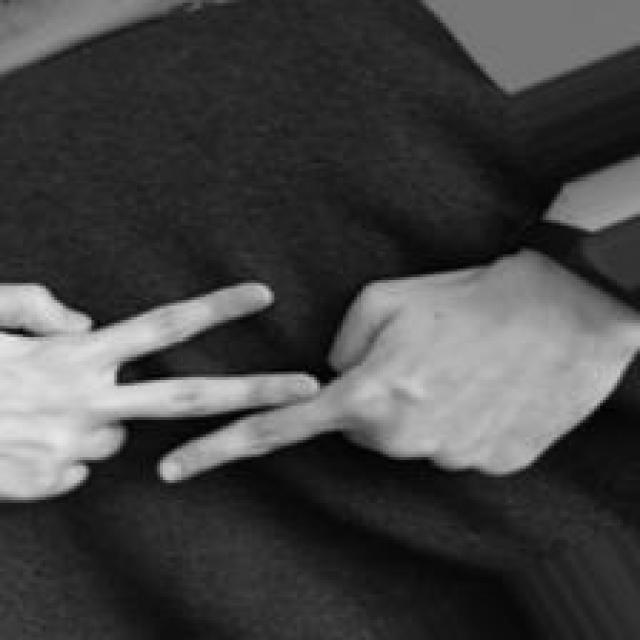Z: (1, 272, 518, 504)
